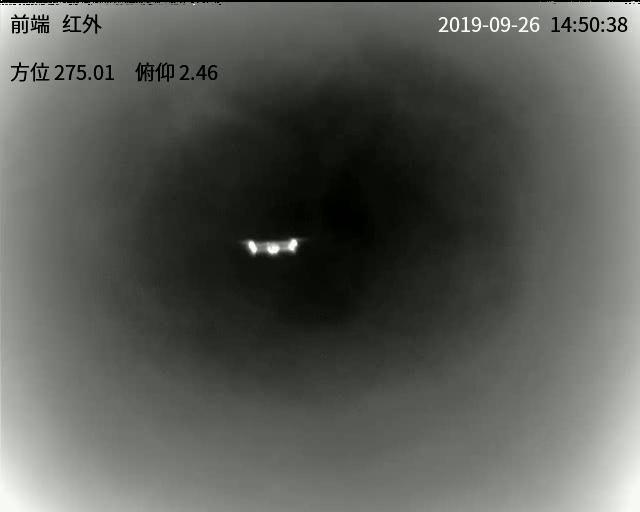DRONE: (244, 238, 301, 258)
